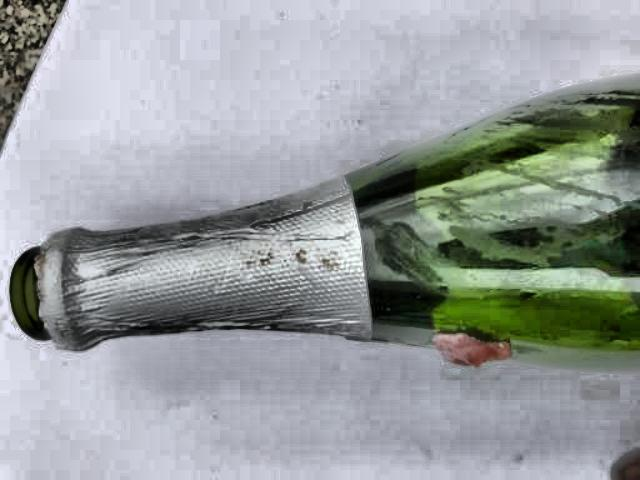Bottles: (0, 63, 640, 401)
